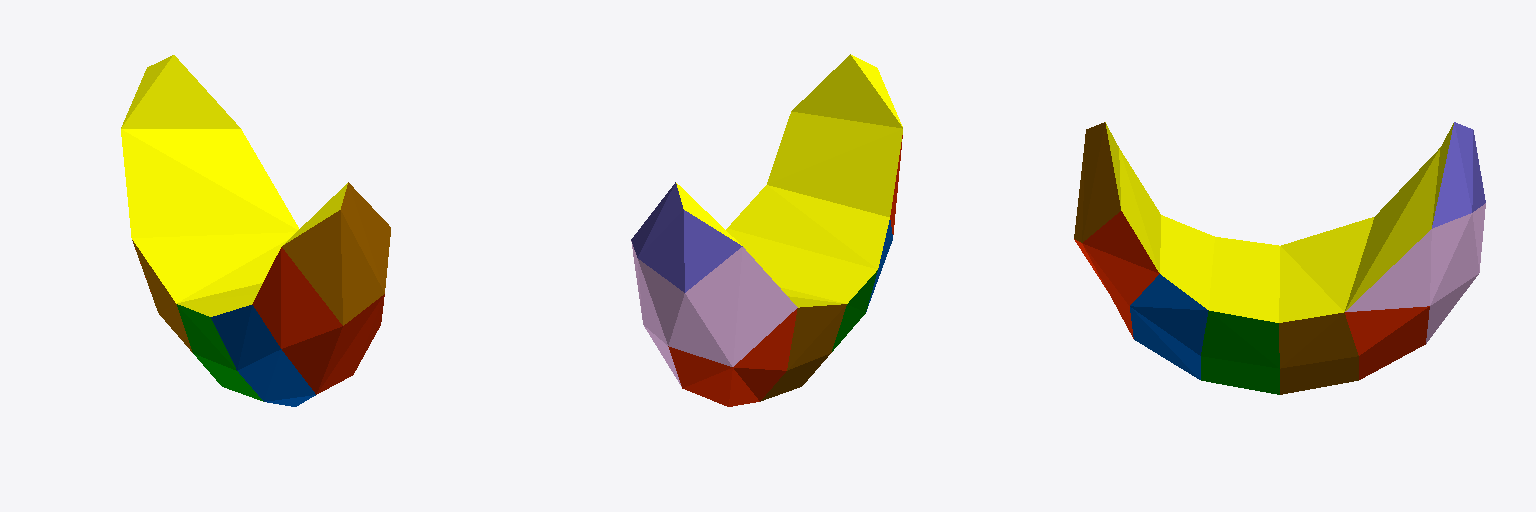
The model's file is QLune2.obj.
The picture shows the model from 3 angles: view 1: azimuth 30°, elevation 25°; view 2: azimuth 150°, elevation 25°; view 3: azimuth 270°, elevation 25°; orthographic projection.
Visible parts, largest first — view 1: unnamed_object1; view 2: unnamed_object1; view 3: unnamed_object1.
Part boxes in pixels (x1,y1,x2,y2): unnamed_object1: (121, 55, 390, 406); unnamed_object1: (631, 54, 902, 406); unnamed_object1: (1074, 122, 1485, 394).
Bounding box in the file's own units: 44.45 × 73.02 × 99.82.